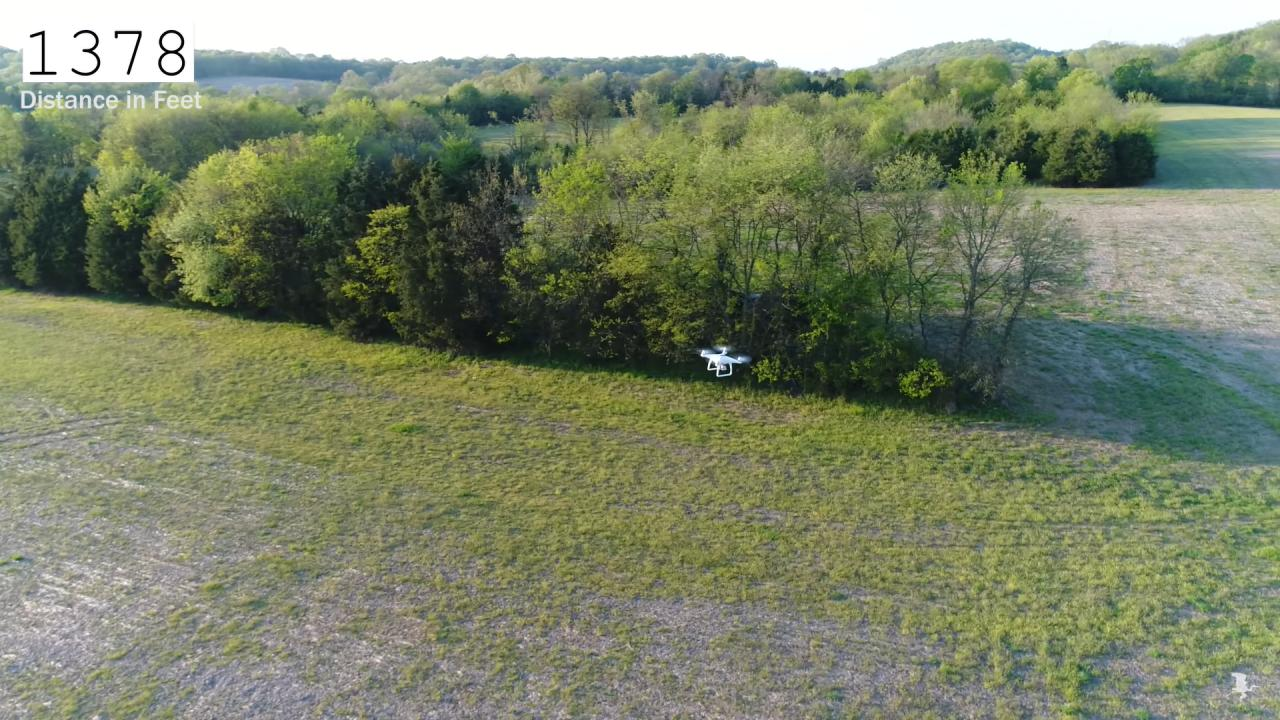Drone: (685, 336, 762, 391)
